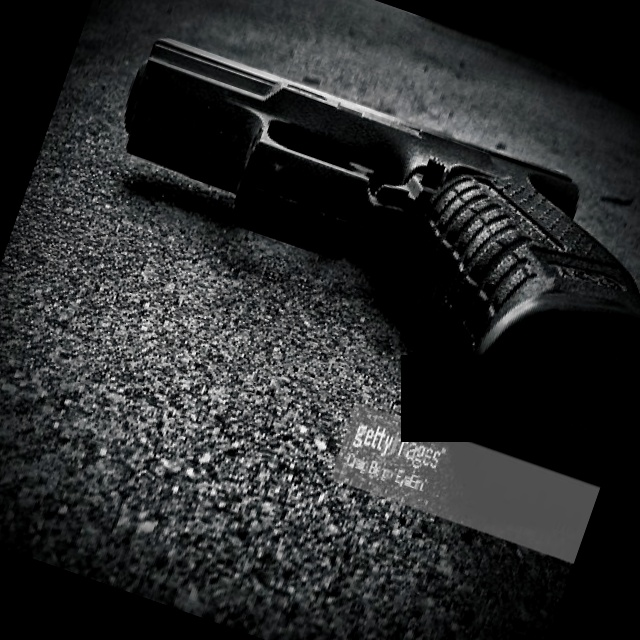gun: (71, 20, 640, 427)
